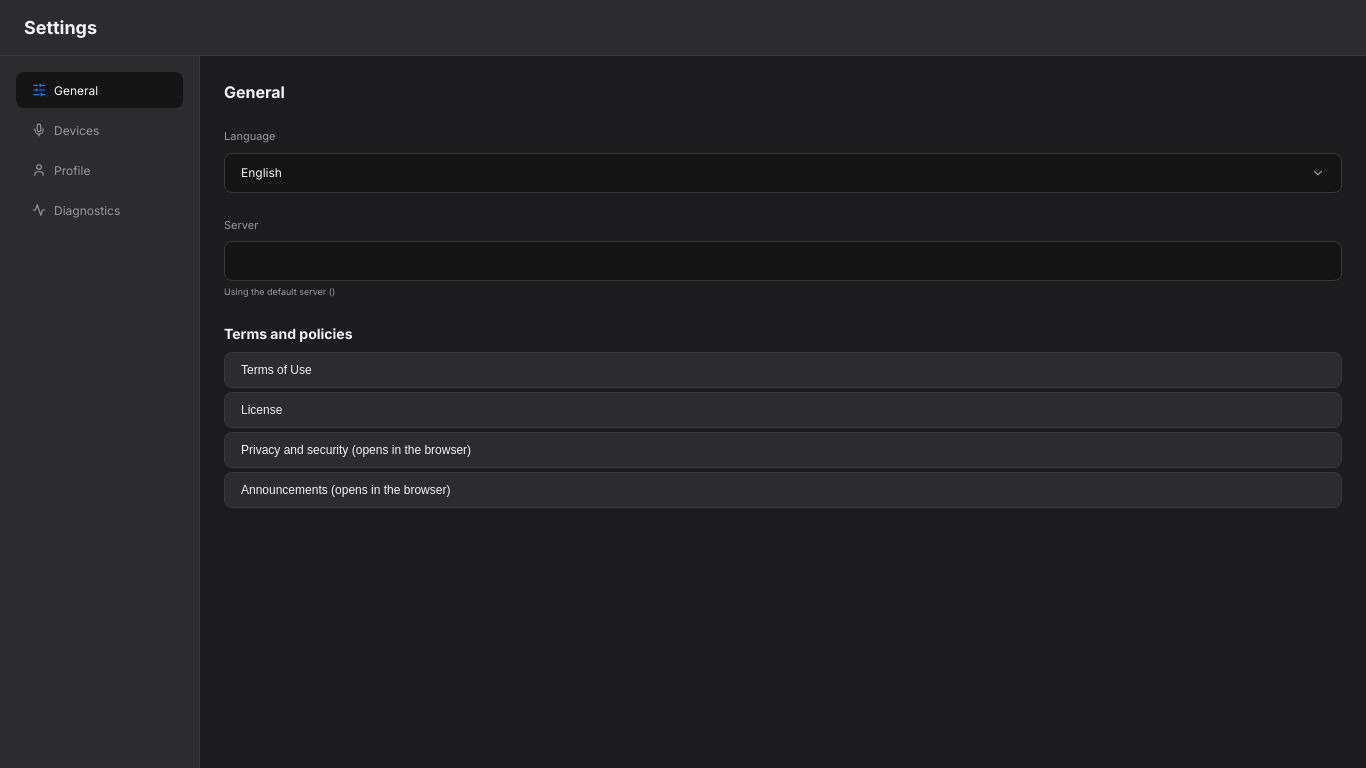
the terms rows in the settings screen › the terms row is pressed, the bundled text is read from the app and shown in a dialog that closes
The image size is (1366, 768).
Click the button with test id "settings-legal-terms" at (276, 370), box [224,352,1342,388]
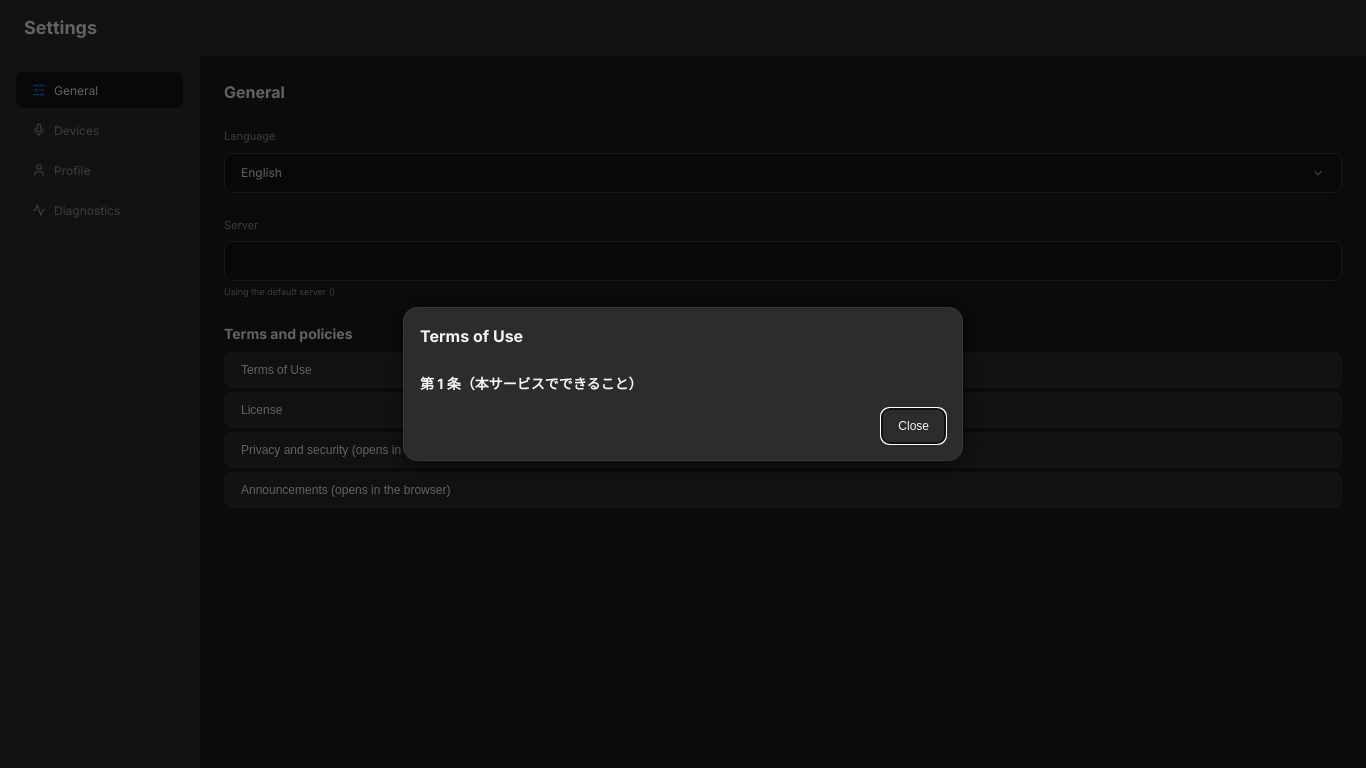
Expected: the dialog "Terms of Use" shows "第 1 条（本サービスでできること）", [420,375,642,392]
Click the button "Close" at (914, 426), box [881,408,946,444]
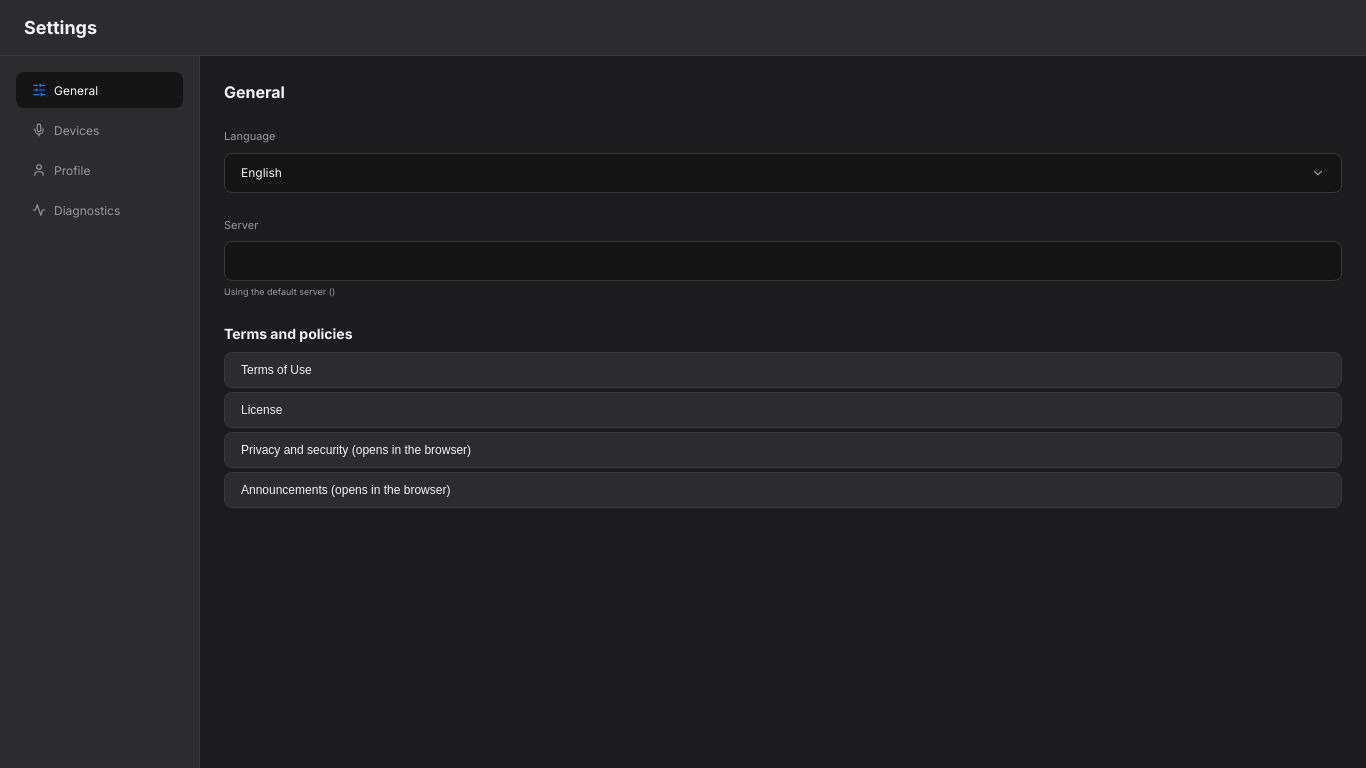
Expected: the dialog is gone
